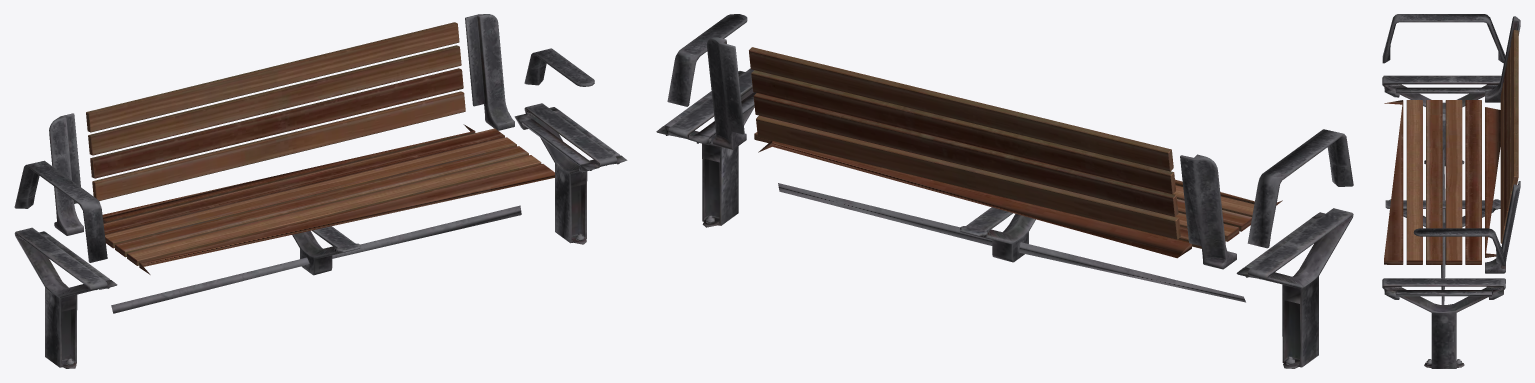
Rendered from modular_street_seating.glb.
3 views of the same model, side by side, from view 1: azimuth 30°, elevation 25°; view 2: azimuth 150°, elevation 25°; view 3: azimuth 270°, elevation 25° (orthographic). The views are drawn at different scales.
Visible parts, largest first — view 1: seat, legs_double, crossbar, back_support_r; view 2: seat, legs_double, crossbar, back_support_r; view 3: seat, legs_double, crossbar, back_support_r.
Part boxes in pixels (x1,y1,x2,y2): seat: (86, 22, 555, 274); legs_double: (14, 103, 627, 368); crossbar: (14, 14, 594, 313); back_support_r: (49, 113, 83, 235); seat: (749, 47, 1282, 258); legs_double: (656, 68, 1353, 368); crossbar: (667, 14, 1353, 302); back_support_r: (1180, 154, 1236, 269); seat: (1384, 30, 1518, 264); legs_double: (1382, 75, 1505, 368); crossbar: (1382, 14, 1520, 304); back_support_r: (1485, 16, 1520, 102).
Size of the model in its own units: 2.45 by 0.8669 by 0.6704.
Materials: 3 (3 with a texture image).
